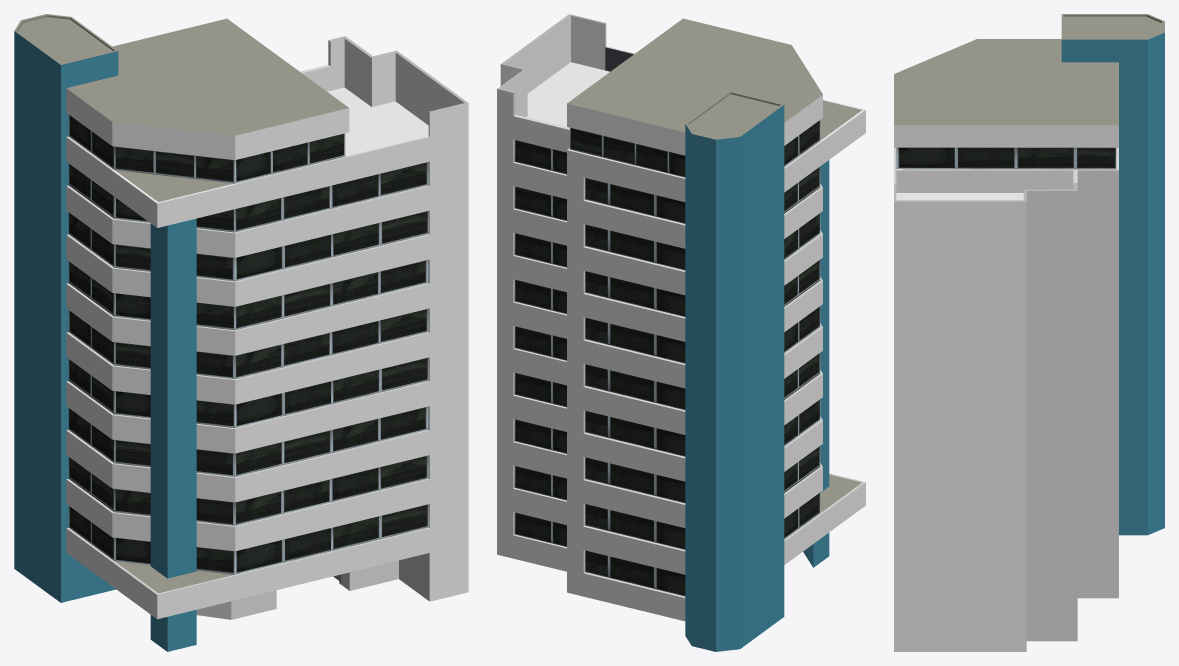
3 renders of one model, left to right at view 1: azimuth 30°, elevation 25°; view 2: azimuth 150°, elevation 25°; view 3: azimuth 270°, elevation 25°, orthographic. The views are drawn at different scales.
Parts seen in each view (by area): view 1: BB-069; view 2: BB-069; view 3: BB-069.
Part boxes in pixels (box(x1,y1,x2,y2)): BB-069: box(14, 14, 468, 651); BB-069: box(497, 14, 865, 651); BB-069: box(894, 14, 1164, 651).
Size of what is drawn, in the model's own units: 20.34 by 33 by 16.34.
